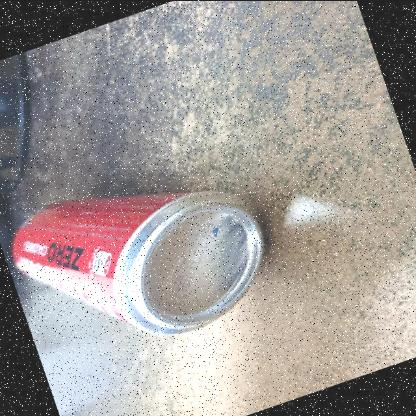Can: (9, 184, 268, 334)
